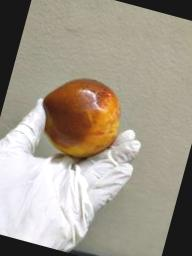Apple Rotten: (27, 64, 133, 172)
